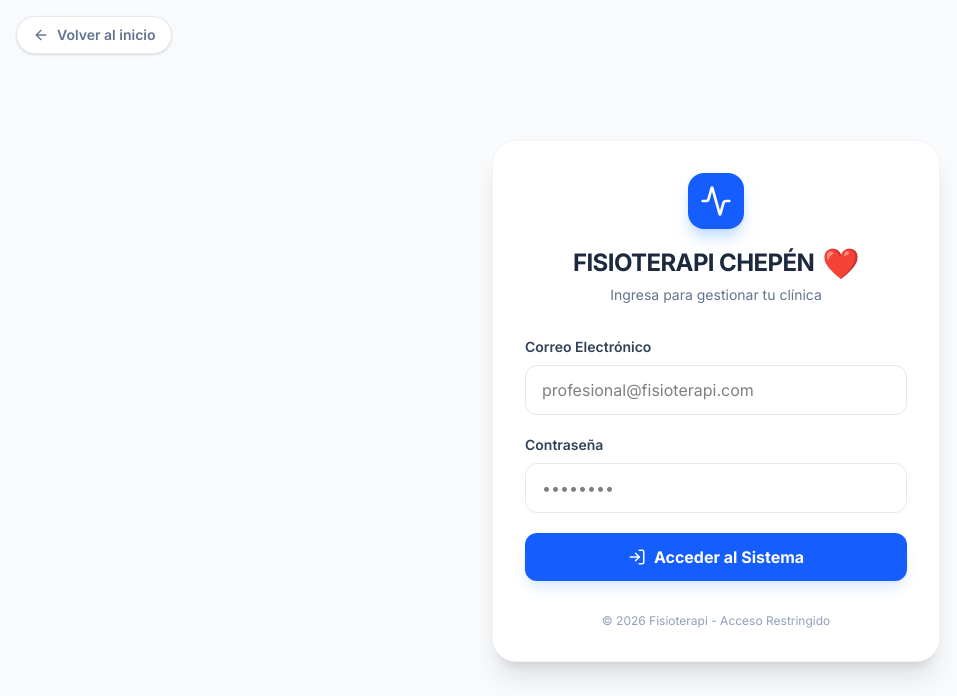
Test case: Login — estado de carga › muestra "Verificando..." mientras está cargando
Type "test@test.com" into the field with placeholder "profesional@fisioterapi.com" at (716, 390), box [525,365,907,415]
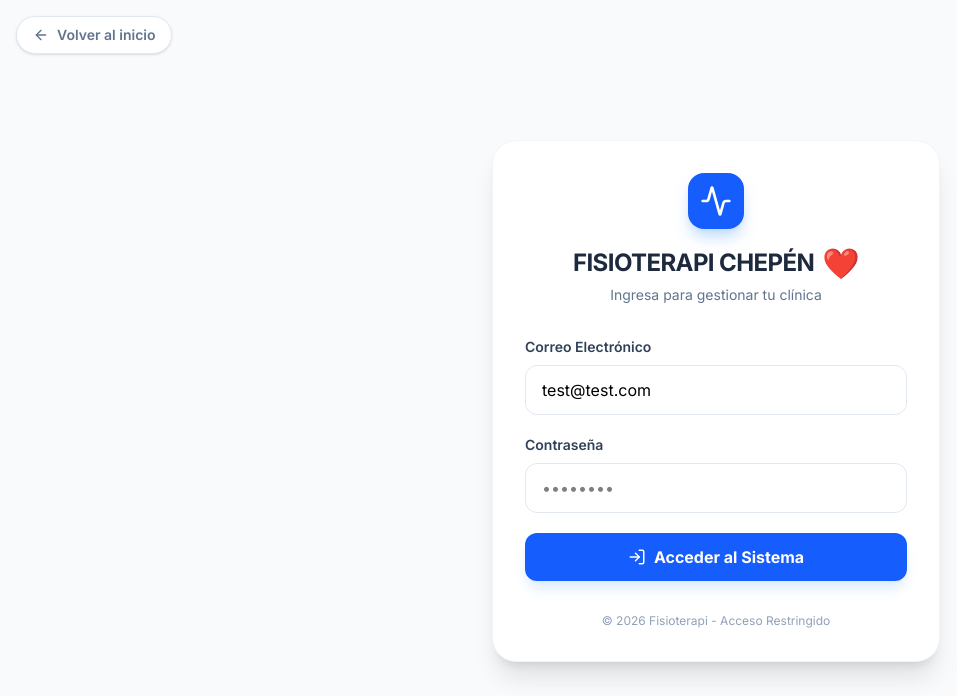
Type "123456" into the password field with placeholder "••••••••" at (716, 488), box [525,463,907,513]
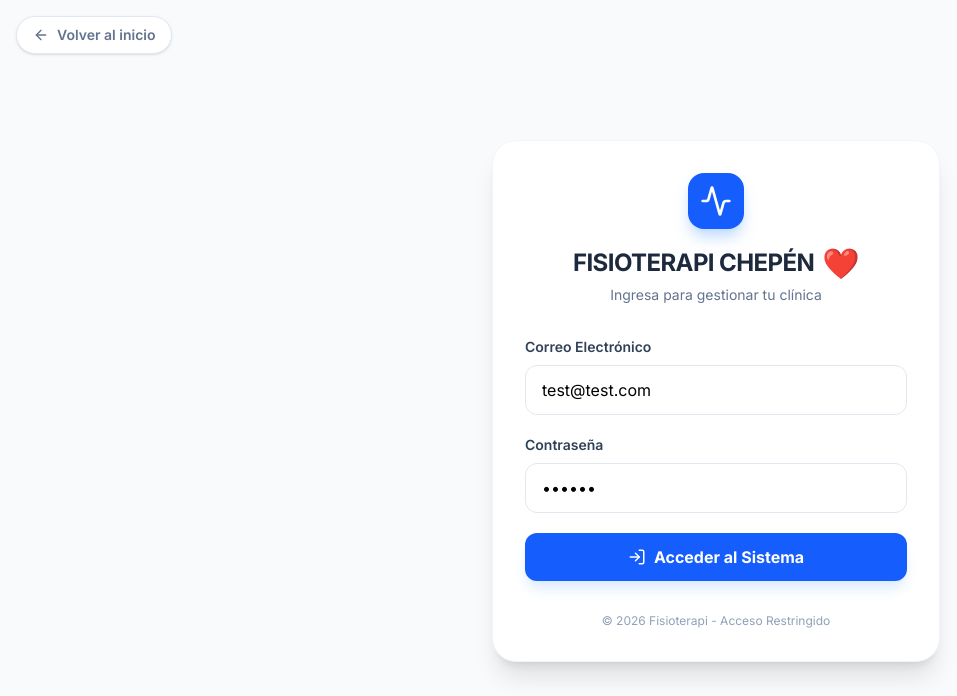
Click the button "Acceder al Sistema" at (716, 557), box [525,533,907,581]
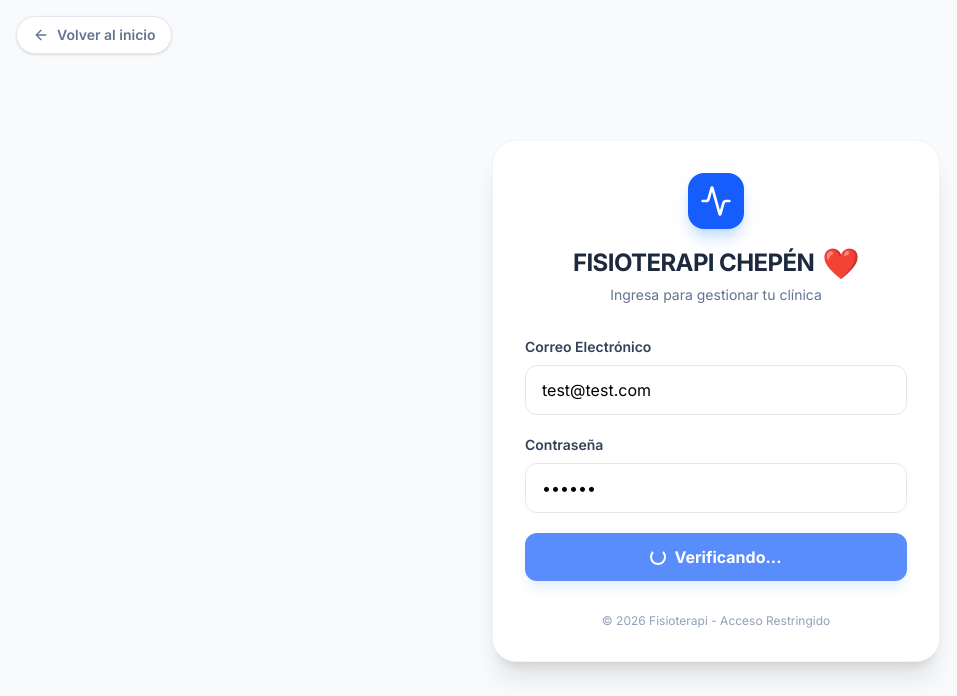
Expected: the text "Verificando..." is shown, [650,545,782,569]
